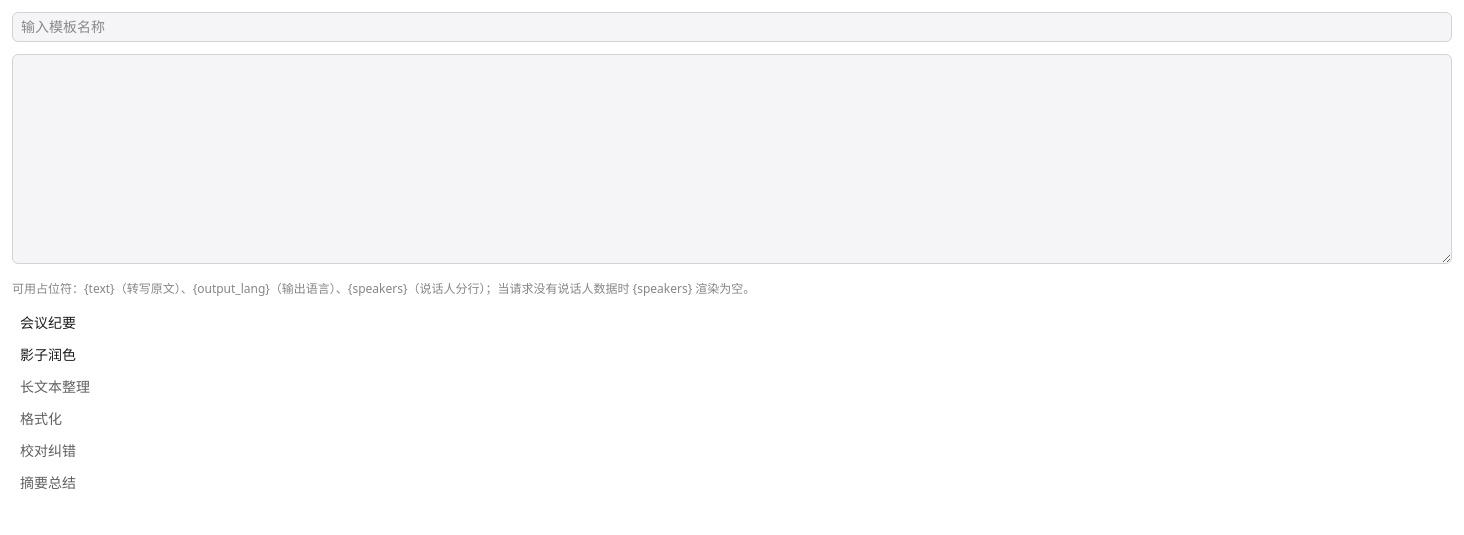
Test: [20260912_Feat_242_TemplateSystem] TemplatesSection › shows the shadow warning when the name equals a built-in mode
Note: Typing a built-in name into the editor warns BEFORE saving.
In the field with test id "template-name-input": (732, 27) [12, 12, 1452, 42], type "summarize"
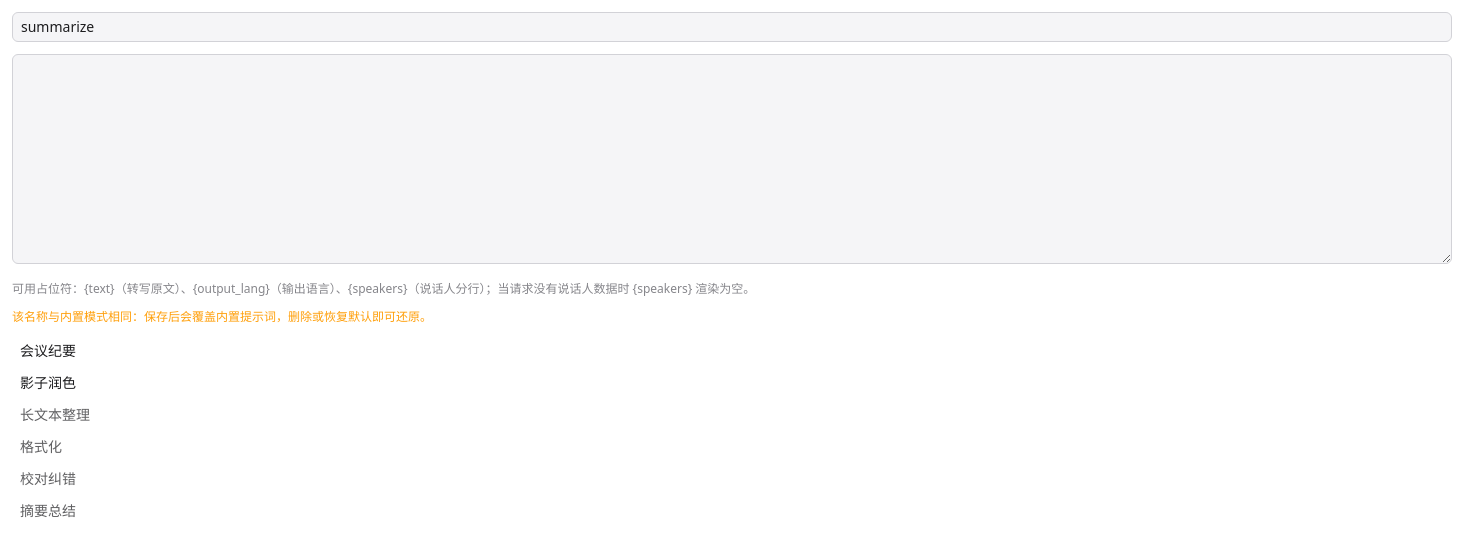
expect the text "该名称与内置模式相同：保存后会覆盖内置提示词，删除或恢复默认即可还原。" is shown: met, box [12, 308, 432, 325]
Note: A non-built-in name has no warning.
Replace the text in the field with test id "template-name-input" with "meeting": (732, 27) [12, 12, 1452, 42]
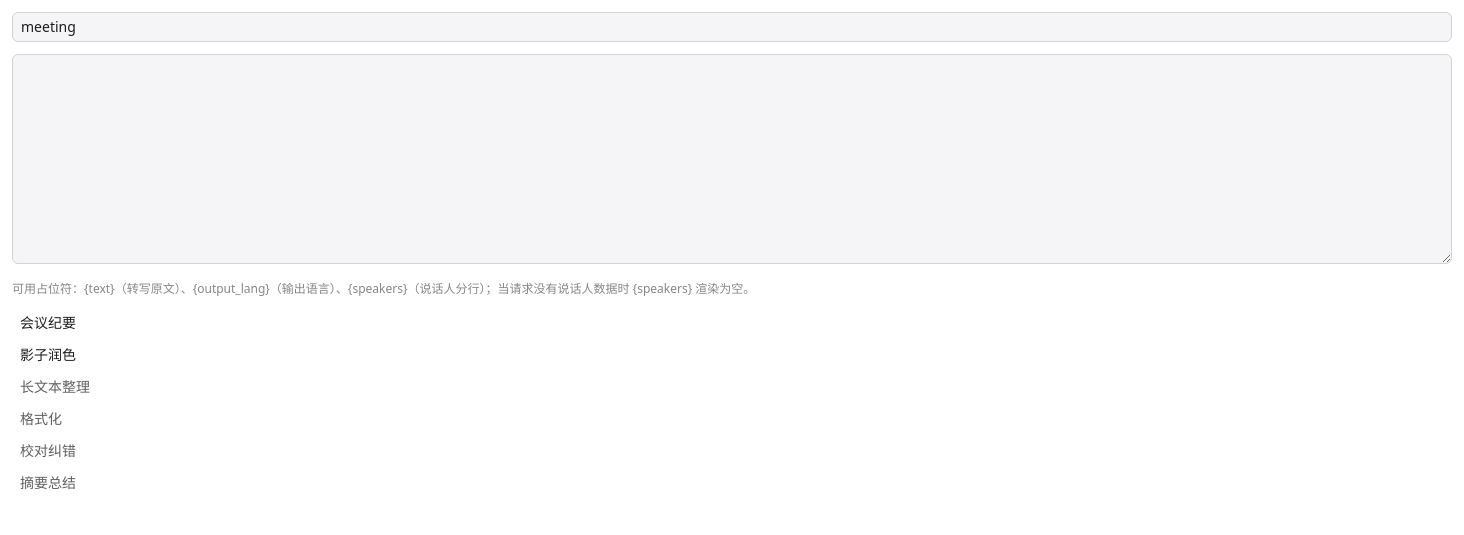
expect the text with test id "template-shadow-warning" is gone: met
